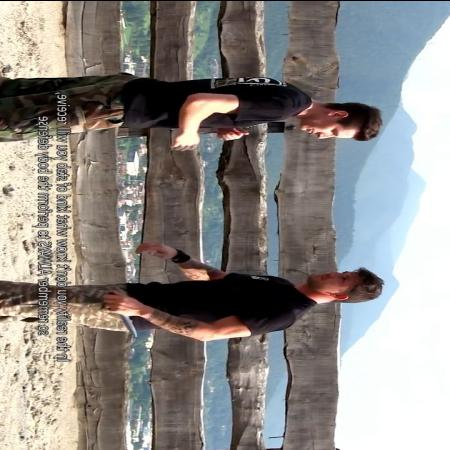long weapon: (100, 290, 142, 340)
